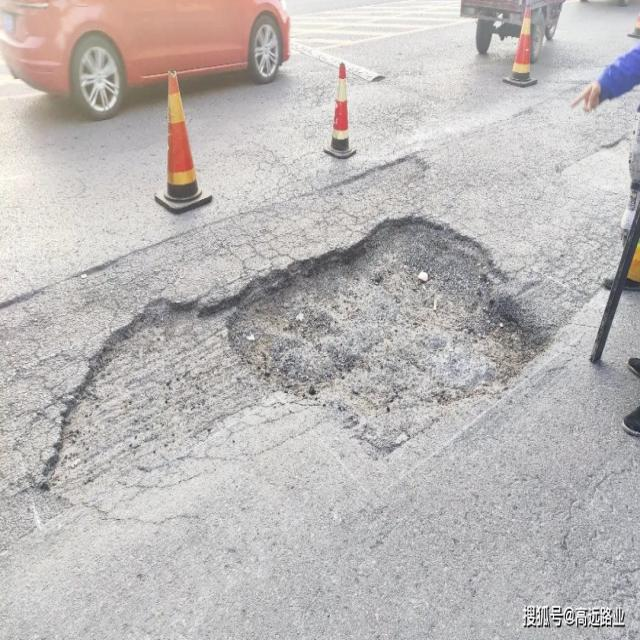Pothole: (39, 212, 548, 492)
